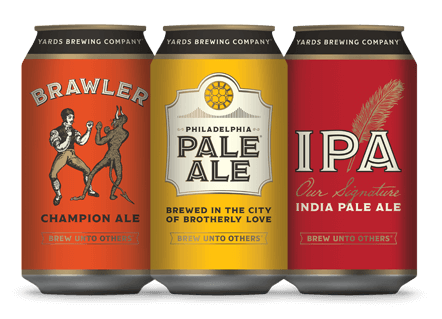beer can: (147, 20, 287, 297), (20, 24, 154, 295), (287, 24, 419, 296)
